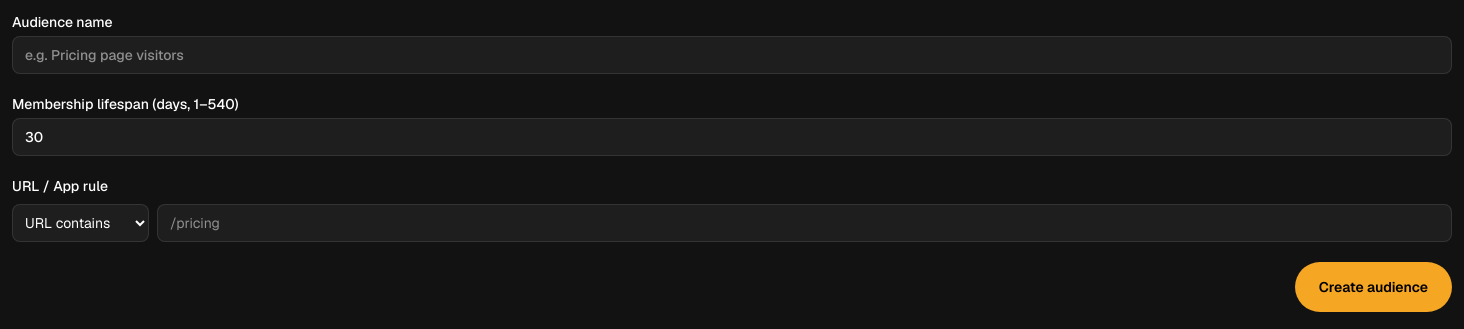
Scenario: RemarketingBuilder › shows success state after successful submit
The width and height of the screenshot is (1464, 329).
Type "Visitors" into the field labelled "Audience name". click: point(732, 55)
box: [12, 36, 1452, 74]
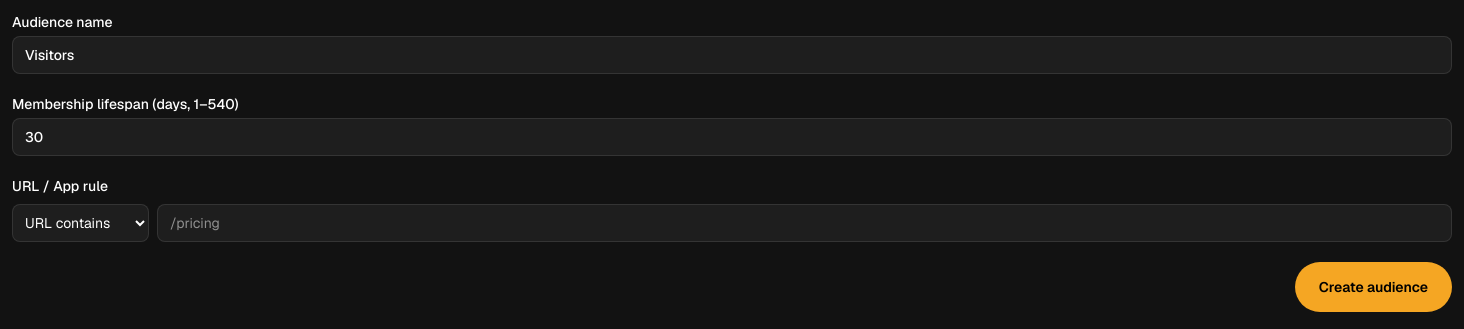
Type "/home" into the field named "Rule value". click: point(804, 223)
box: [157, 204, 1452, 242]
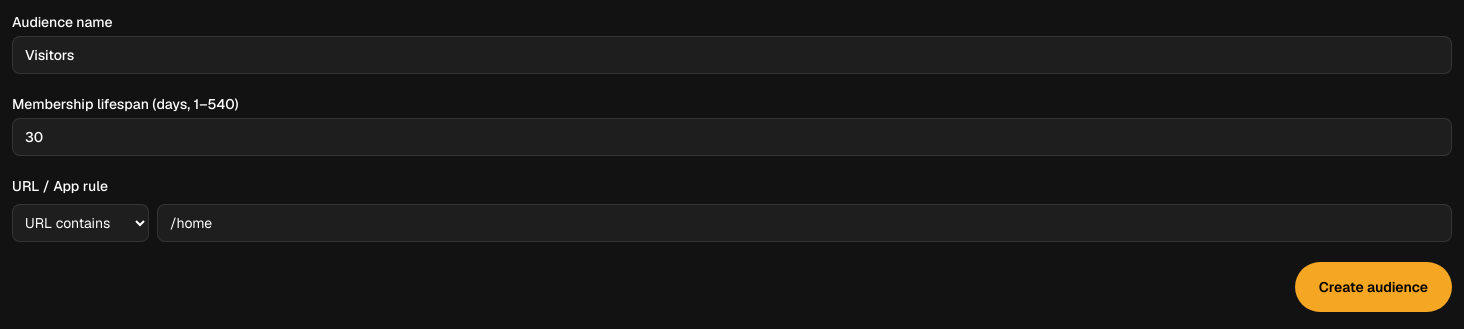
Click the button "Create audience". click: point(1373, 287)
box: [1295, 262, 1452, 312]
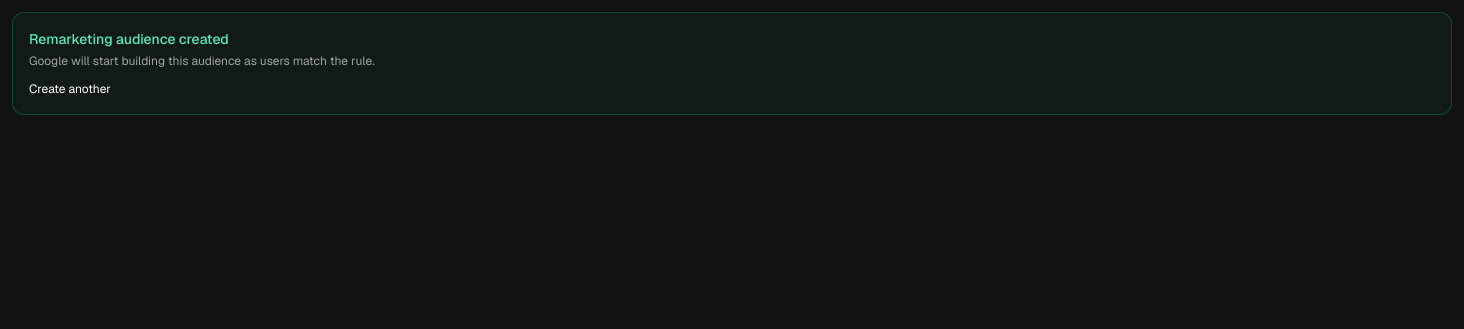
expect the text "Remarketing audience created" is shown: met, box [29, 30, 229, 48]
